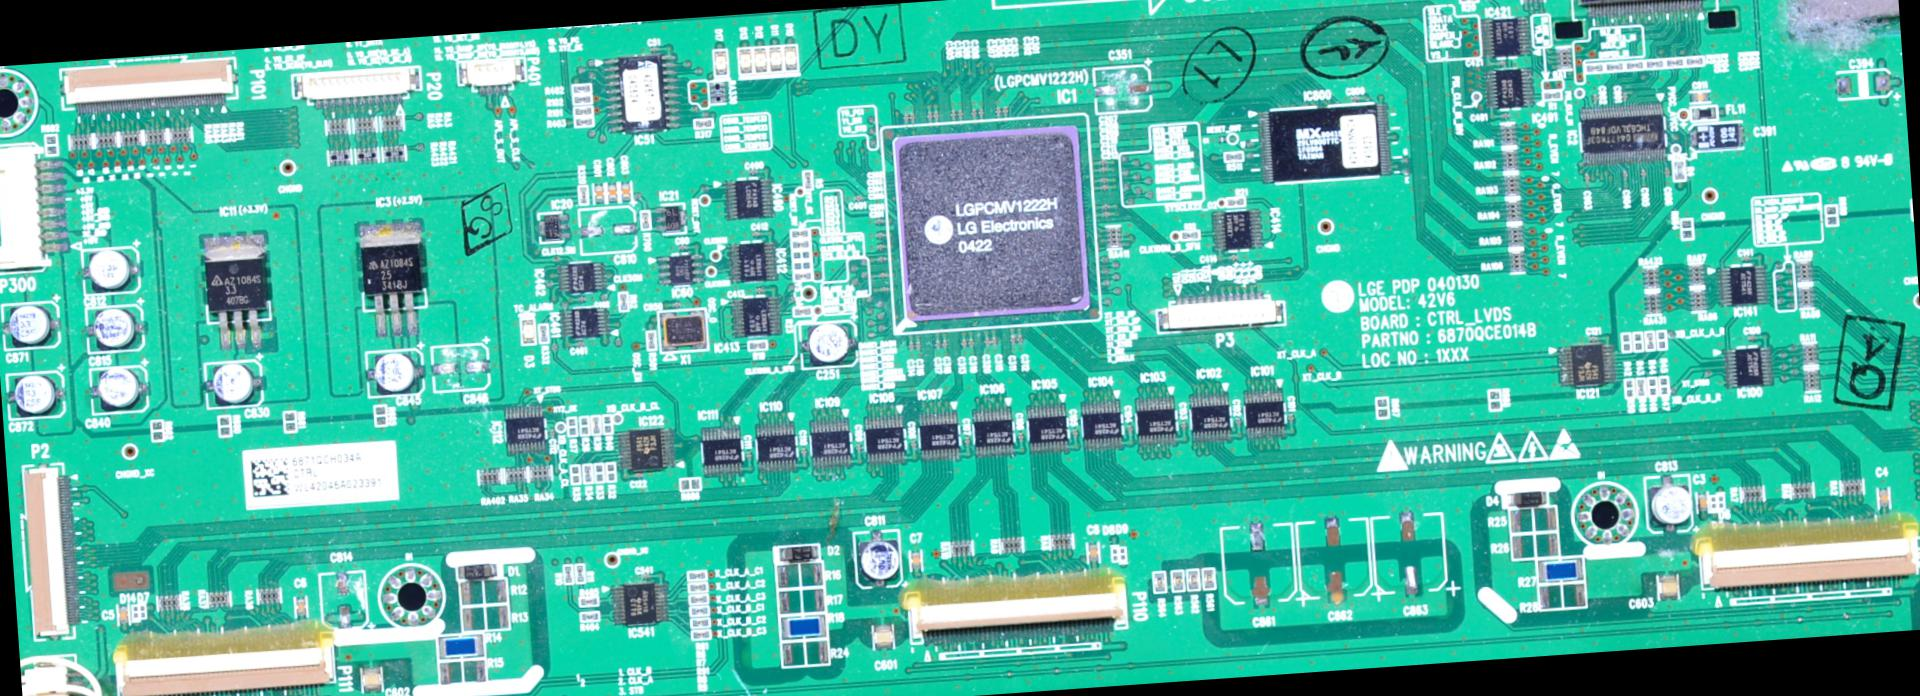Capacitor Jumper: (1095, 65, 1151, 112), (432, 346, 489, 391), (1647, 475, 1692, 531), (206, 361, 256, 408), (856, 532, 900, 583), (82, 250, 131, 293), (7, 304, 51, 347), (373, 350, 415, 395), (1397, 512, 1419, 593), (93, 308, 133, 350), (98, 369, 138, 412), (13, 374, 54, 417), (809, 323, 849, 364), (1248, 523, 1267, 598), (1325, 517, 1342, 598), (1836, 71, 1892, 96), (334, 571, 351, 629), (580, 223, 636, 236), (360, 667, 382, 696), (872, 625, 894, 651), (1658, 573, 1679, 598), (294, 596, 307, 619), (909, 549, 922, 571), (593, 184, 604, 205), (607, 183, 618, 203), (1087, 542, 1098, 562), (1878, 488, 1888, 509), (1690, 92, 1709, 102), (1697, 493, 1706, 513), (620, 183, 628, 200)
Connector: (902, 564, 1125, 658), (1698, 518, 1913, 599), (116, 626, 339, 695), (20, 463, 82, 642), (58, 59, 242, 118), (0, 138, 69, 274), (1157, 289, 1282, 335), (1569, 0, 1719, 28)
IC: (880, 115, 1098, 332), (1259, 100, 1391, 184), (200, 229, 277, 349), (355, 219, 431, 337), (602, 51, 681, 134), (1578, 102, 1669, 165), (1556, 343, 1615, 387), (618, 429, 675, 472), (611, 584, 665, 626), (1211, 208, 1262, 251), (1479, 16, 1529, 58), (1026, 403, 1068, 453), (1080, 399, 1123, 447), (1718, 266, 1767, 308), (1244, 388, 1286, 437), (917, 410, 959, 460), (504, 403, 545, 453), (700, 425, 741, 475), (724, 179, 775, 218), (864, 414, 904, 464), (1189, 392, 1229, 440), (756, 423, 796, 471), (972, 407, 1011, 456), (1135, 396, 1174, 445), (1725, 348, 1772, 388), (811, 419, 849, 468), (730, 243, 775, 283), (1487, 67, 1532, 107), (558, 261, 605, 293), (560, 309, 607, 339), (538, 211, 569, 241)
Resistor Jumper: (778, 589, 824, 614), (1537, 558, 1581, 583), (1510, 507, 1555, 532), (1511, 534, 1556, 559), (1539, 583, 1583, 608), (776, 564, 820, 587), (784, 641, 827, 664), (781, 616, 825, 638), (999, 535, 1022, 555), (1049, 533, 1073, 551), (949, 540, 973, 558), (158, 593, 180, 611), (326, 118, 348, 135), (709, 81, 727, 100), (381, 114, 403, 130), (1840, 479, 1862, 495), (1741, 486, 1763, 502), (1823, 205, 1838, 228), (678, 478, 702, 493), (382, 145, 403, 161), (1644, 292, 1660, 312), (479, 468, 500, 484), (257, 588, 278, 604), (207, 592, 228, 608), (1790, 482, 1811, 497), (1500, 124, 1515, 146), (1504, 174, 1518, 196), (144, 127, 164, 143), (1801, 344, 1817, 364), (1804, 370, 1820, 390), (328, 151, 349, 165), (1507, 225, 1522, 246), (1643, 267, 1658, 288), (93, 134, 115, 147), (1671, 158, 1685, 180), (1689, 263, 1702, 286), (1798, 261, 1811, 283), (504, 468, 527, 482), (529, 467, 551, 480), (1798, 289, 1813, 308), (71, 134, 91, 148), (120, 131, 140, 146), (355, 118, 375, 132), (1558, 48, 1572, 67), (356, 148, 376, 163), (1502, 148, 1516, 169), (1107, 227, 1120, 248), (1505, 200, 1518, 221), (373, 406, 387, 426), (283, 412, 296, 433), (1187, 570, 1200, 591), (1690, 290, 1704, 309), (169, 127, 189, 141), (1509, 251, 1522, 271), (218, 415, 231, 435), (149, 420, 163, 440), (1680, 218, 1692, 239), (1489, 390, 1501, 410), (562, 564, 574, 584), (686, 570, 707, 582), (1171, 570, 1183, 591), (1202, 569, 1215, 589), (691, 629, 711, 641), (1658, 375, 1669, 397), (1624, 377, 1635, 399), (1647, 376, 1658, 398), (1636, 376, 1647, 398), (687, 594, 709, 605), (580, 610, 600, 622), (1624, 60, 1644, 71), (1644, 59, 1665, 70), (645, 330, 656, 350), (747, 341, 768, 352), (573, 562, 584, 583), (1153, 572, 1164, 593), (44, 136, 56, 154), (1376, 398, 1389, 417), (572, 115, 594, 125), (1685, 55, 1704, 66), (1584, 62, 1604, 74), (577, 185, 588, 205), (791, 250, 811, 261), (538, 323, 549, 343), (566, 417, 577, 436), (578, 417, 589, 436), (601, 415, 612, 435), (579, 597, 599, 608), (689, 618, 709, 629), (573, 104, 594, 114), (1621, 332, 1631, 353), (594, 462, 604, 483), (687, 582, 708, 592), (688, 607, 709, 616), (1643, 332, 1654, 350), (590, 415, 601, 434), (572, 94, 591, 104), (693, 119, 713, 129), (1604, 61, 1624, 71), (1665, 58, 1685, 67), (1224, 197, 1244, 207), (791, 239, 811, 249), (791, 261, 811, 271), (618, 292, 628, 311), (1633, 331, 1643, 350), (571, 464, 580, 484), (582, 464, 591, 484), (605, 463, 615, 482), (1656, 330, 1664, 350), (791, 229, 808, 239), (791, 308, 811, 316), (572, 85, 590, 93), (1224, 152, 1243, 161), (1180, 230, 1199, 239), (793, 271, 812, 279), (640, 211, 649, 228), (1458, 0, 1478, 2), (1523, 0, 1542, 2), (569, 564, 571, 565)
iC: (731, 295, 780, 337), (659, 254, 705, 284), (656, 206, 684, 233)
